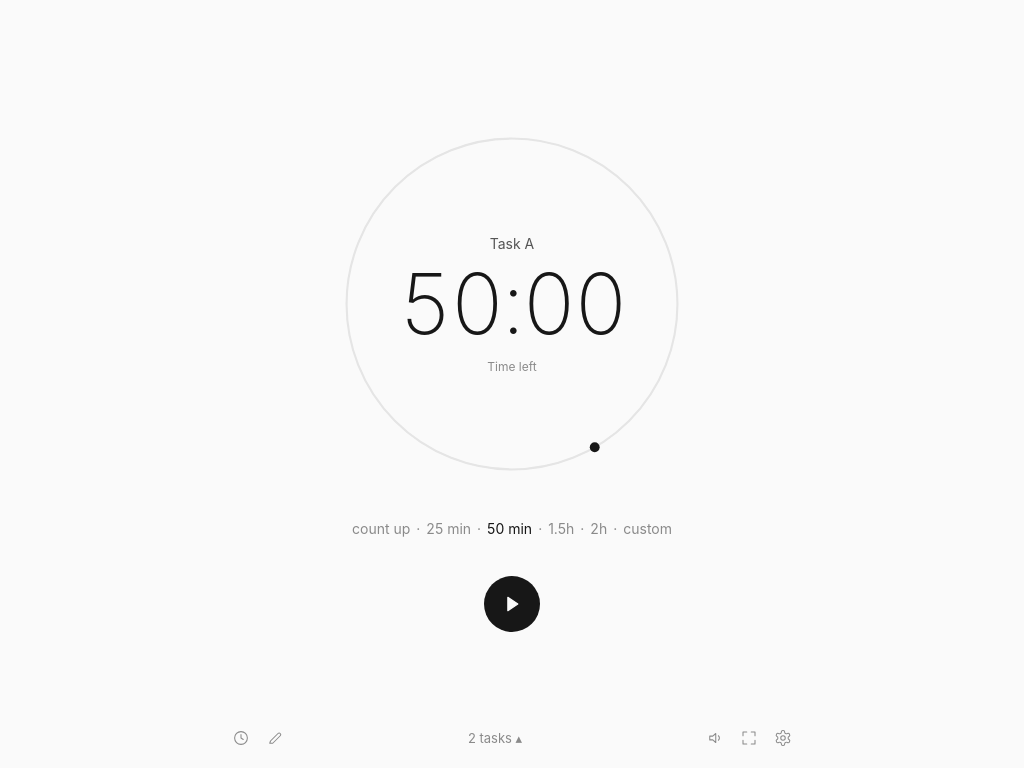
Test case: Focus screen › done opens the review sheet; mark done moves to the next task
Click the button named "Play" at (512, 604), box [484,576,540,632]
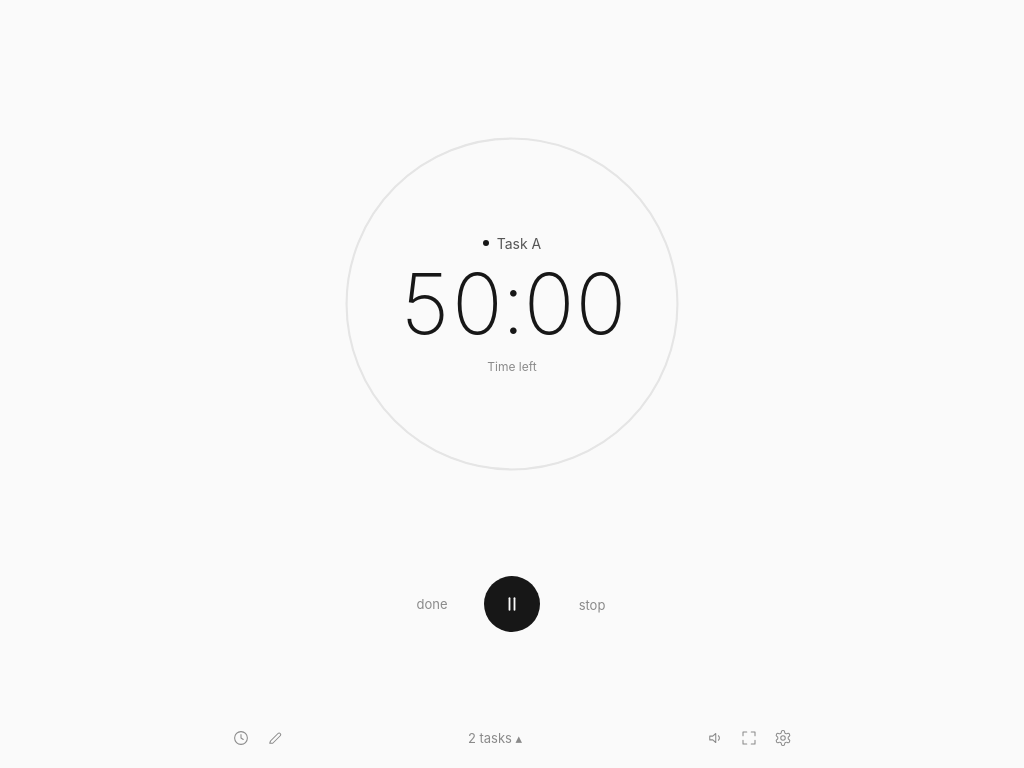
Click the button with aria-label "Complete now" at (432, 604), box [412,594,452,614]
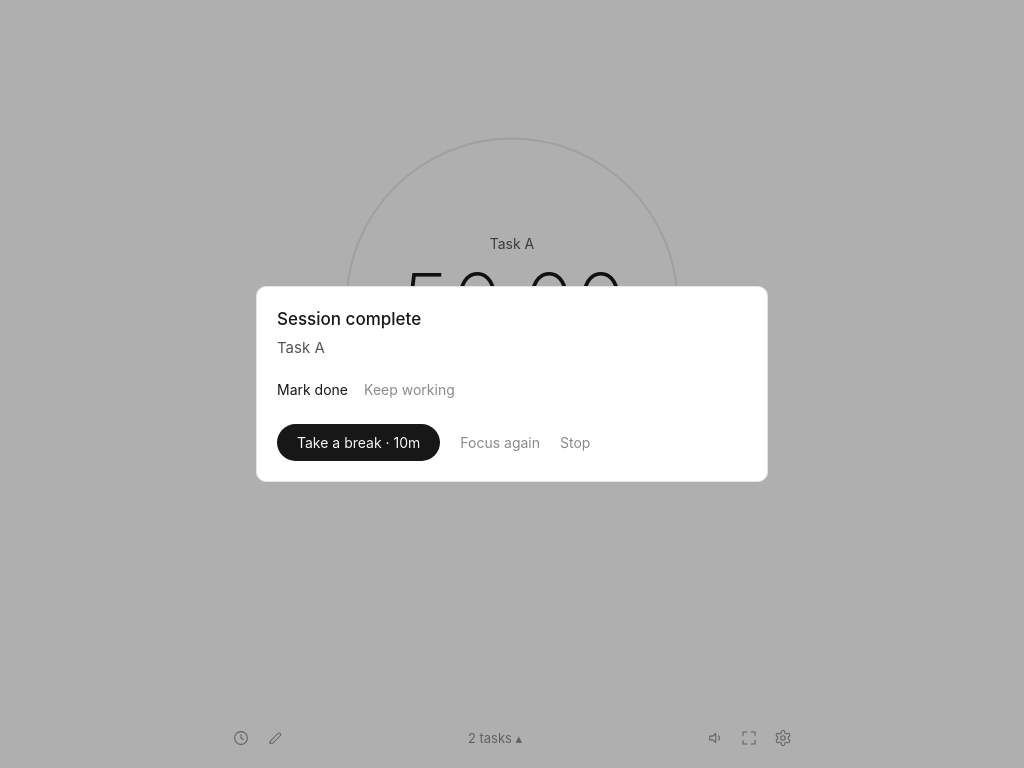
Now the element with test id "review-sheet" is shown, box [256,286,768,482]
Click the button with test id "review-mark-done" at (312, 390), box [277,379,348,400]
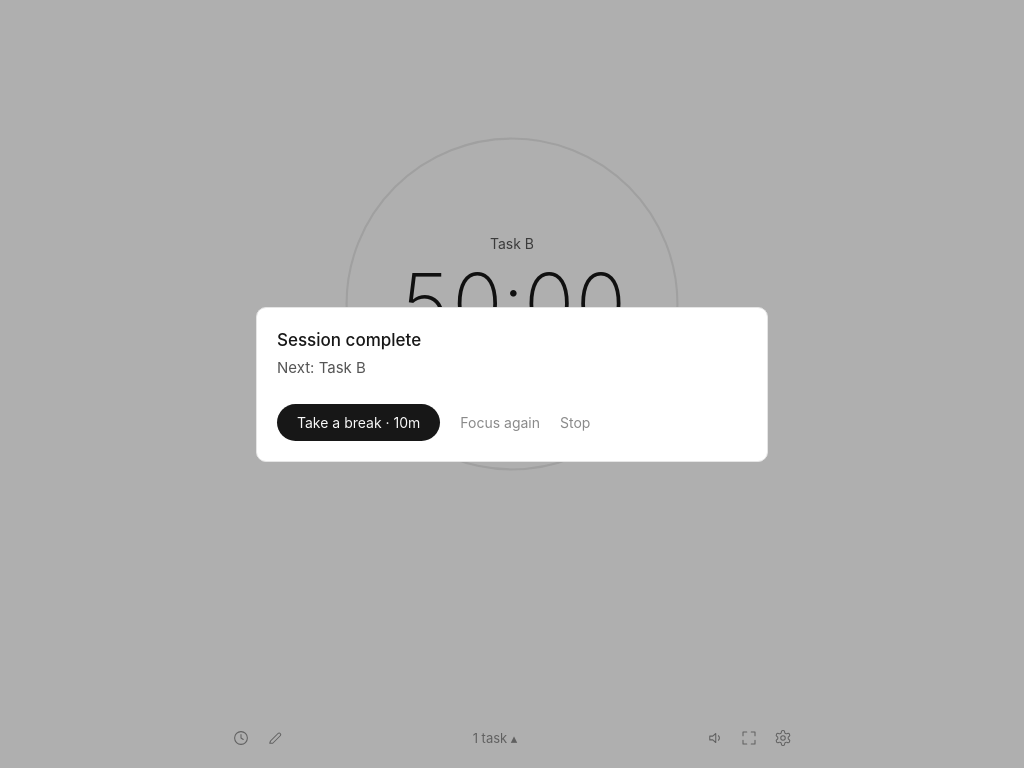
Now the text "Next: Task B" is shown, box [277,358,366,377]
Now the button with test id "review-mark-done" is gone
